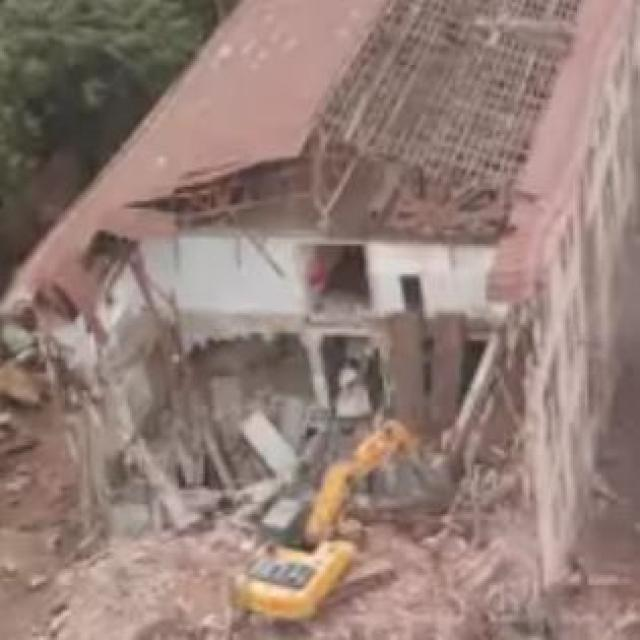collapsed_building: (87, 175, 577, 605)
